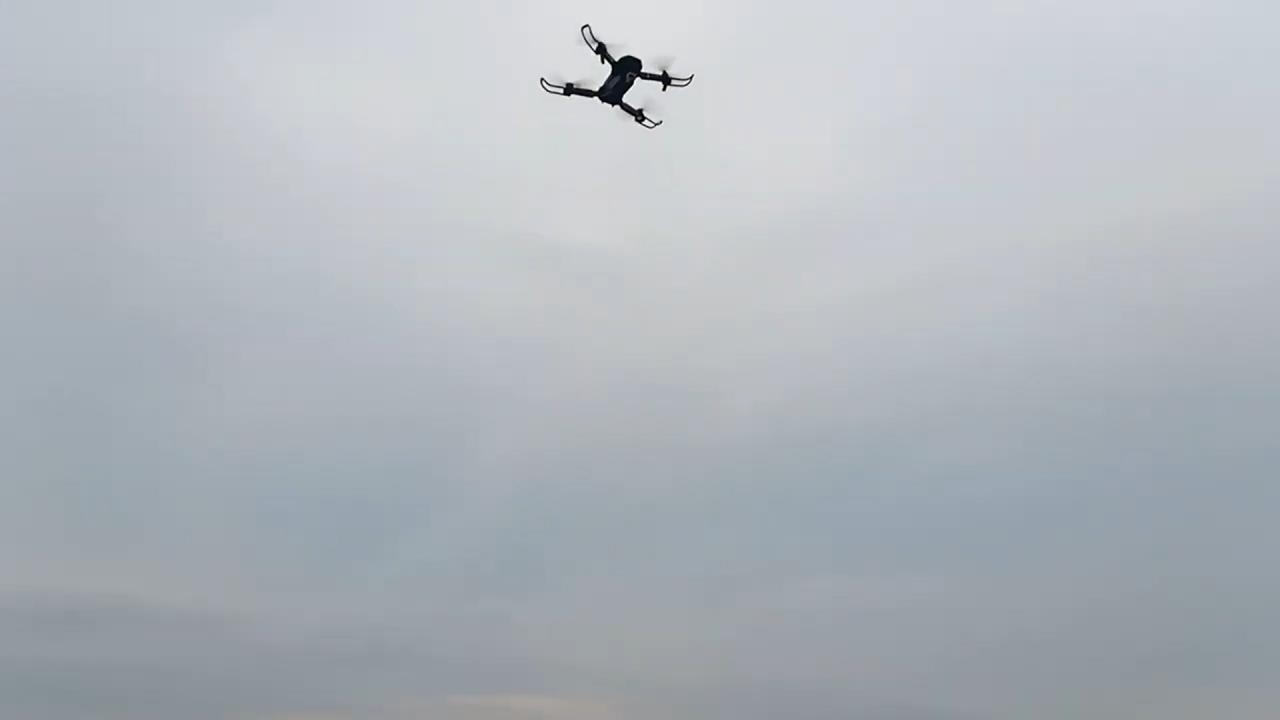Drone: (530, 19, 702, 136)
